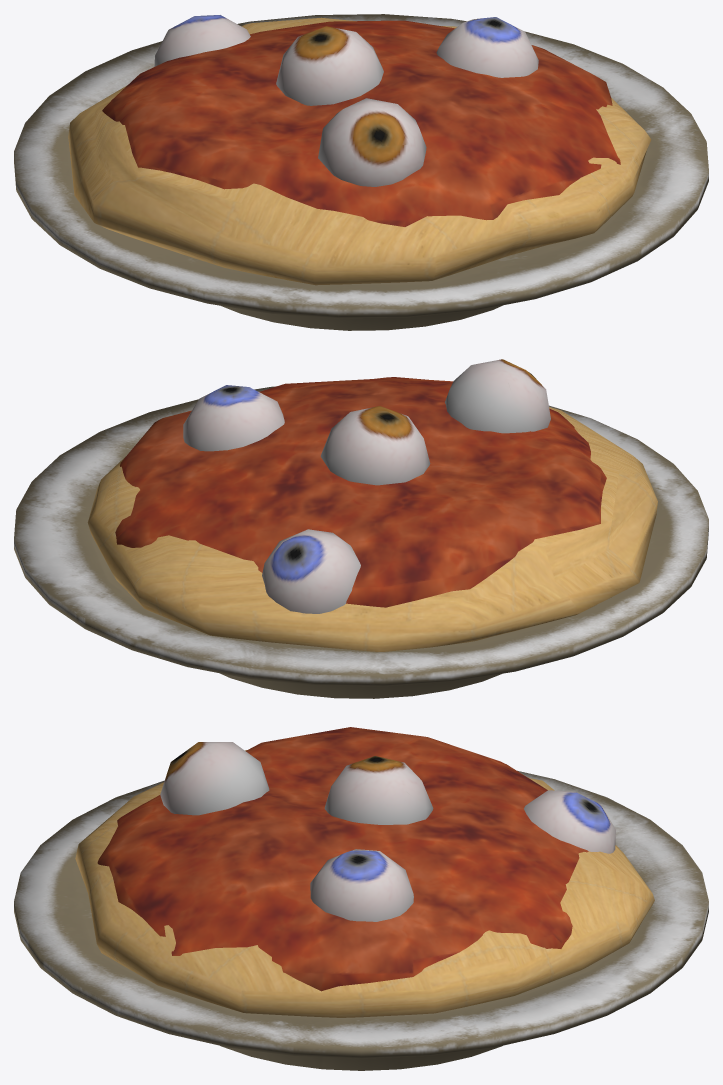
The model's file is SPAGHETTI.fbx.
3 renders of one model, top to bottom at view 1: azimuth 30°, elevation 25°; view 2: azimuth 150°, elevation 25°; view 3: azimuth 270°, elevation 25°, orthographic.
Visible parts, largest first — view 1: Cylinder.002; view 2: Cylinder.002; view 3: Cylinder.002.
Part boxes in pixels (bbox=[...]): Cylinder.002: bbox=[14, 14, 708, 330]; Cylinder.002: bbox=[14, 359, 708, 698]; Cylinder.002: bbox=[14, 727, 708, 1070].
Bounding box in the file's own units: 332 × 112 × 332.
Materials: 1 (1 with a texture image).
